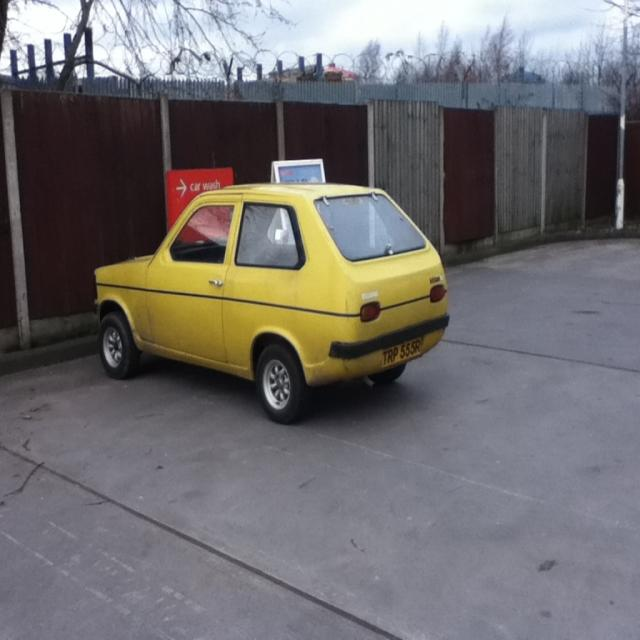car: (86, 178, 442, 429)
